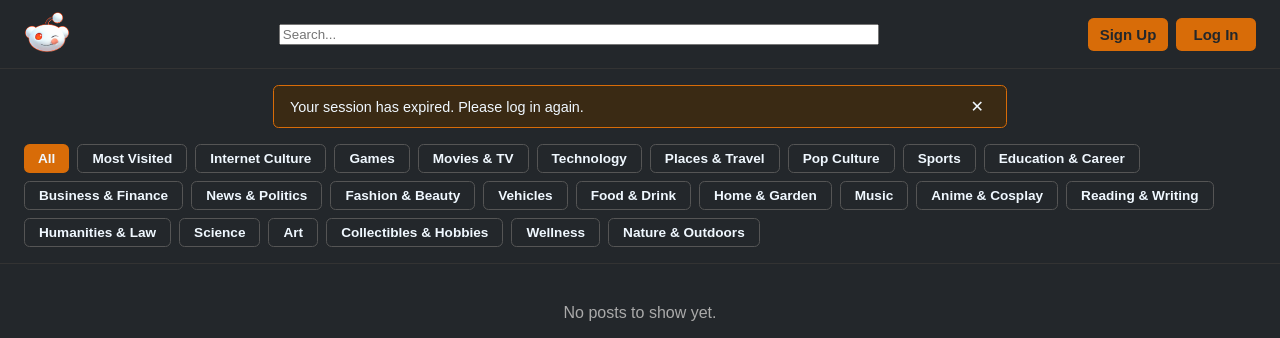
Scenario: session expiry › the session expired notice can be dismissed
What coordinates should you click on to do the following:
click the button named "dismiss"
I would click on:
 (977, 106)
Its box is [965, 96, 990, 117].
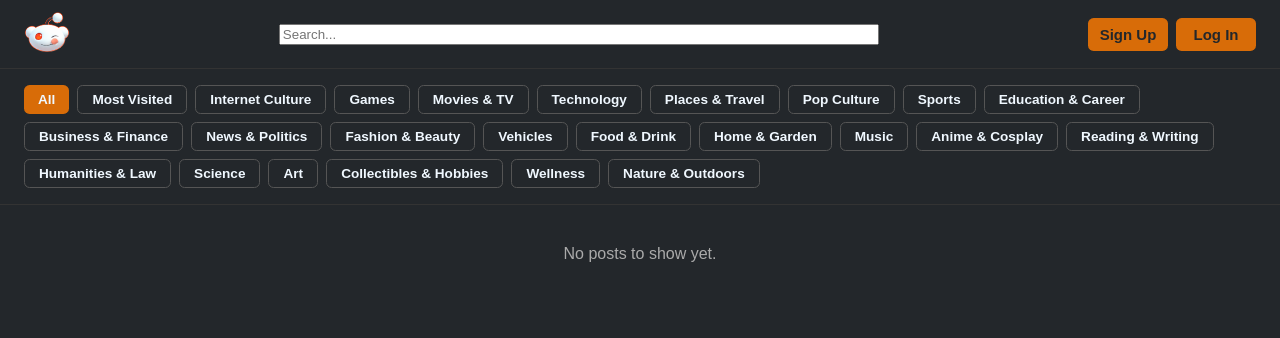
Expected: the text "Your session has expired" is gone
